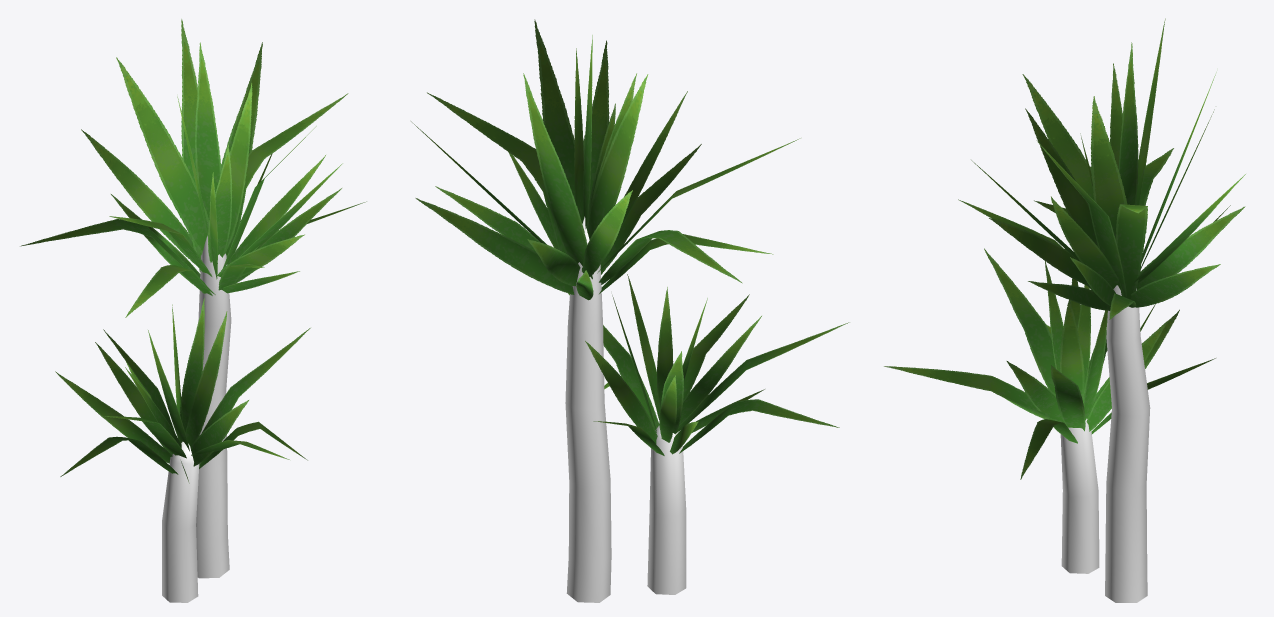
Rendered from SM_YuccaTree02.fbx.
3 renders of one model, left to right at view 1: azimuth 30°, elevation 25°; view 2: azimuth 150°, elevation 25°; view 3: azimuth 270°, elevation 25°, orthographic. The views are drawn at different scales.
Visible parts, largest first — view 1: SM_YuccaTree02; view 2: SM_YuccaTree02; view 3: SM_YuccaTree02.
Boxes of the visible parts, left/top/right/bottom form: SM_YuccaTree02: left=20, top=19, right=366, bottom=602; SM_YuccaTree02: left=411, top=19, right=849, bottom=602; SM_YuccaTree02: left=884, top=18, right=1245, bottom=602.
Size of the model in its own units: 178 by 258 by 160.
